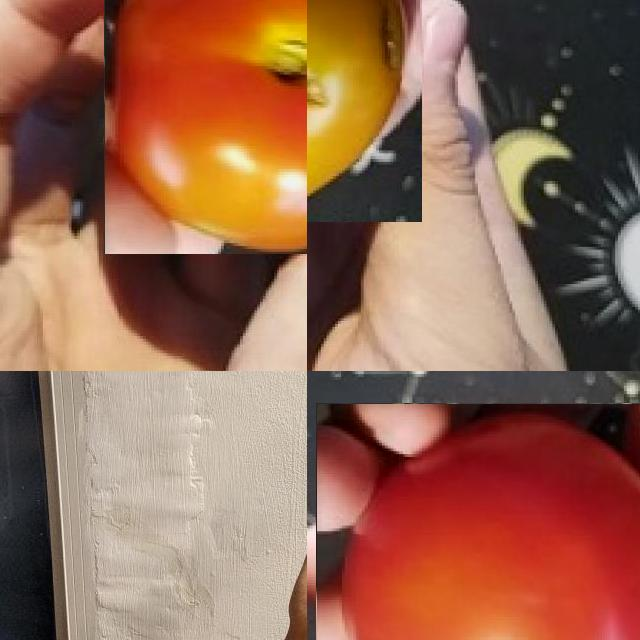Fresh Tomato: (316, 403, 640, 640), (104, 0, 307, 254)
Rotten Tomato: (307, 0, 422, 222)
